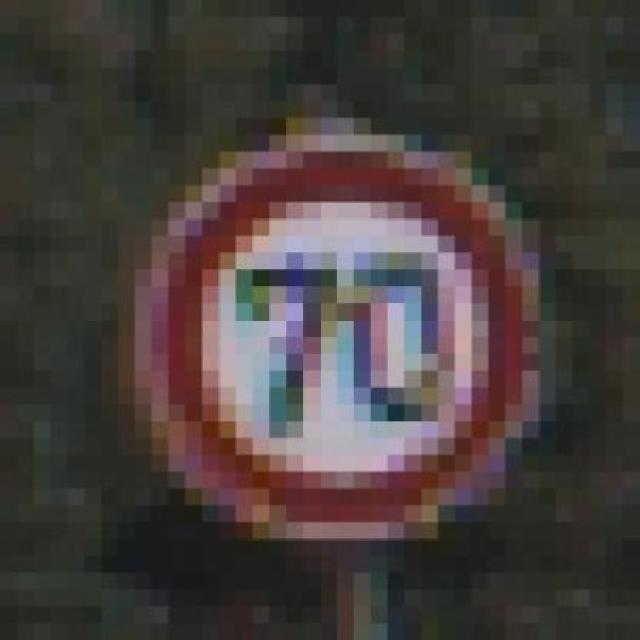forb_speed_over_70: (153, 143, 527, 529)
